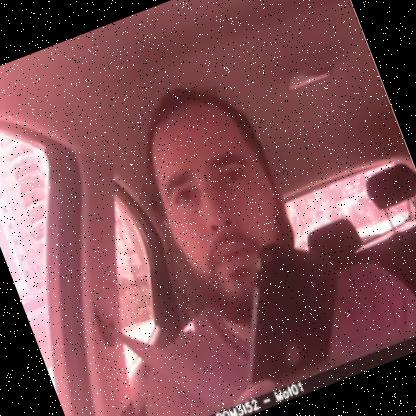phone: (198, 219, 372, 398)
